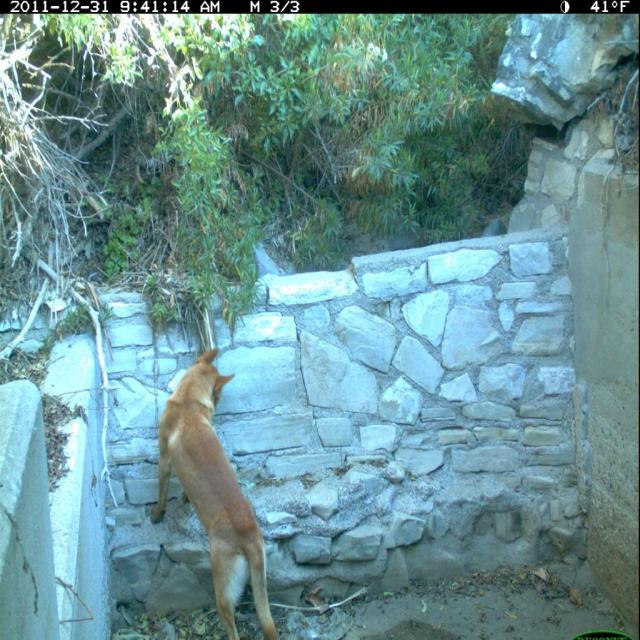dog: (144, 340, 283, 640)
